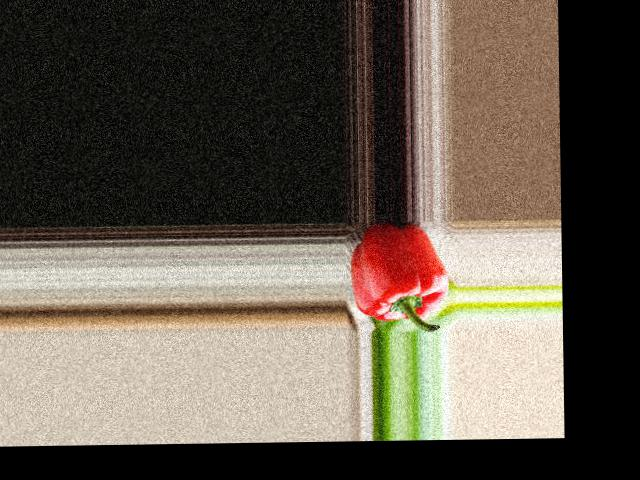bell_pepper: (352, 219, 451, 330)
